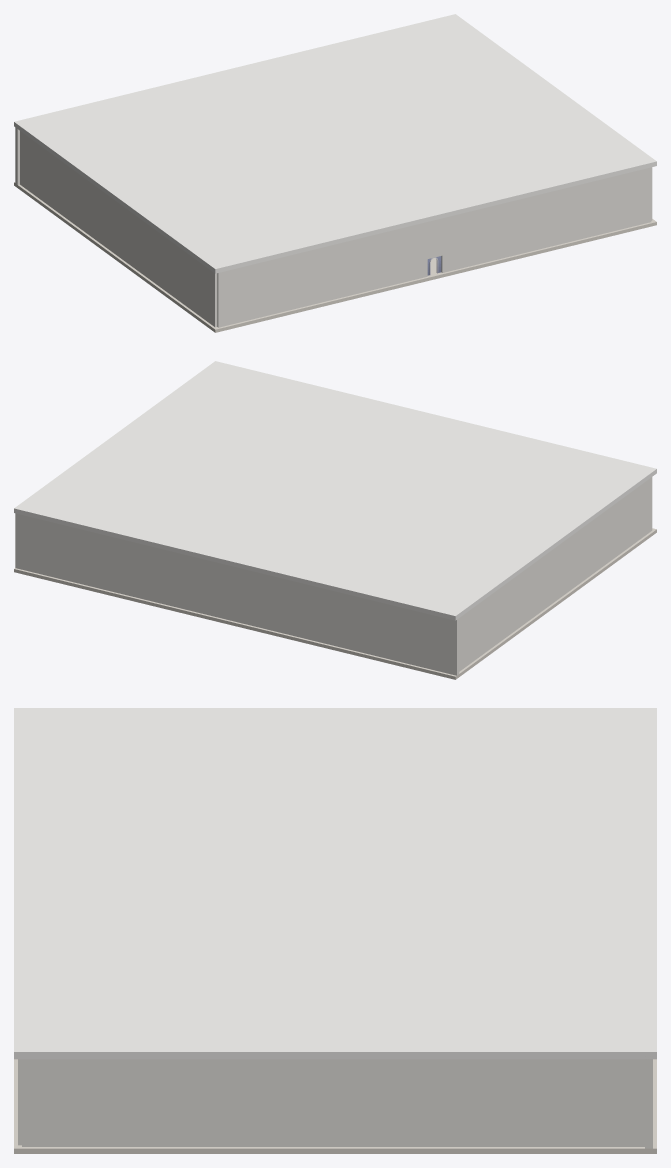
Rendered from world.glb.
The picture shows the model from 3 angles, top to bottom: view 1: azimuth 30°, elevation 25°; view 2: azimuth 150°, elevation 25°; view 3: azimuth 270°, elevation 25°; orthographic projection. The views are drawn at different scales.
Parts seen in each view (by area): view 1: Ceiling, Wall_S_L, Wall_S_R, Wall_W, Terrain, Wall_S_Lintel; view 2: Ceiling, Wall_N, Wall_W, Terrain; view 3: Ceiling, Wall_E, Terrain, Wall_N.
Boxes of the visible parts, x1,y1,x2,y2 form: Ceiling: [14, 14, 656, 273]; Wall_S_L: [217, 222, 427, 327]; Wall_S_R: [441, 167, 651, 272]; Wall_W: [20, 131, 217, 327]; Terrain: [14, 182, 656, 332]; Wall_S_Lintel: [427, 218, 442, 258]; Ceiling: [14, 361, 656, 620]; Wall_N: [15, 513, 459, 675]; Wall_W: [459, 477, 652, 671]; Terrain: [14, 528, 656, 679]; Ceiling: [14, 708, 656, 1059]; Wall_E: [22, 1059, 644, 1146]; Terrain: [14, 1059, 656, 1153]; Wall_N: [645, 1056, 652, 1148].
Bounding box in the file's own units: 71.4 × 9.85 × 56.4.
80 materials, 10 textured.
